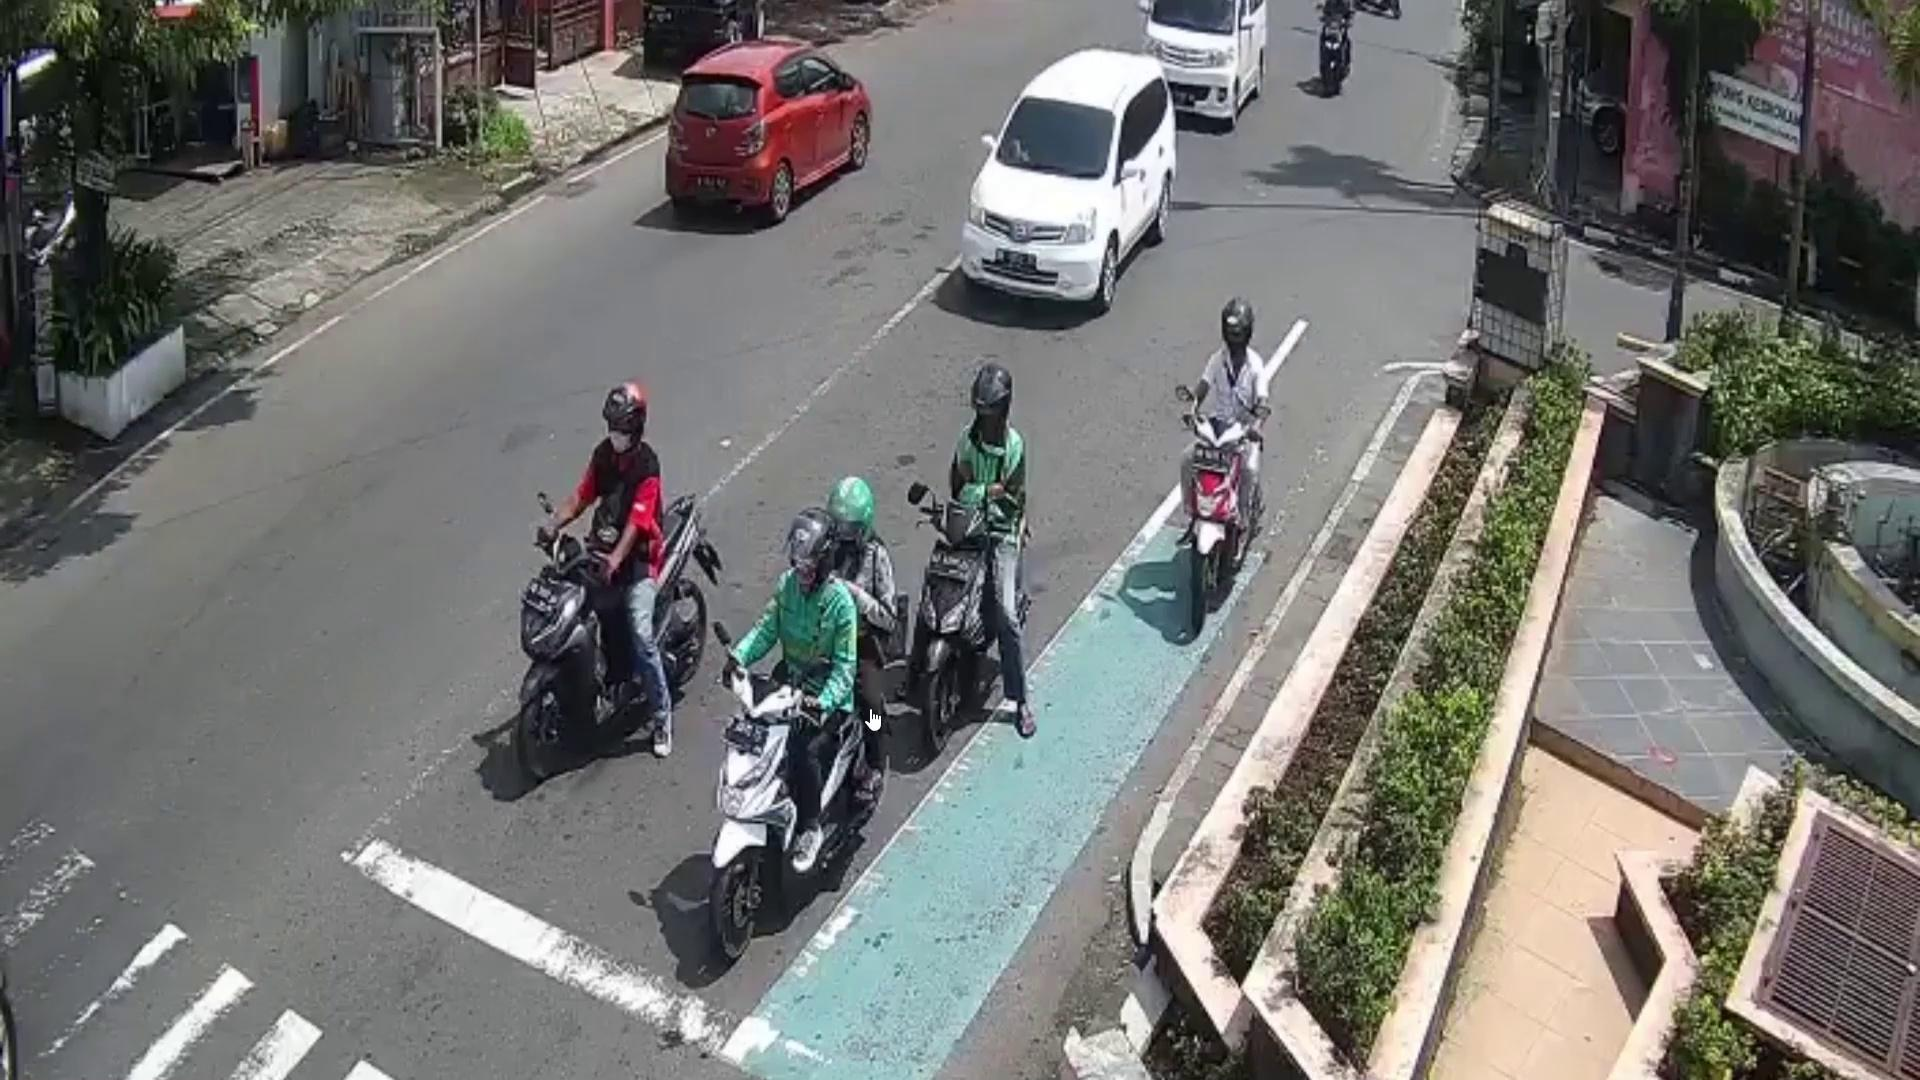car: (961, 50, 1176, 302), (666, 30, 869, 223), (1137, 0, 1266, 131)
motorbike: (514, 492, 719, 777), (711, 669, 870, 959), (914, 501, 998, 753), (1185, 413, 1247, 625)
